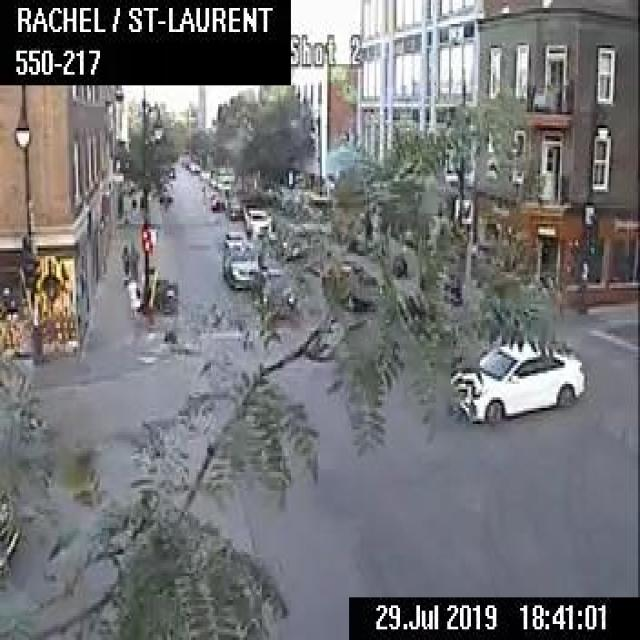pedestrian: (126, 272, 139, 316), (128, 240, 136, 272), (120, 242, 128, 272)
vehicle: (449, 339, 584, 429), (320, 258, 379, 308), (220, 248, 262, 288), (0, 490, 16, 568), (243, 207, 270, 236), (221, 230, 243, 247), (209, 189, 226, 211), (229, 197, 243, 216), (185, 154, 200, 170)
